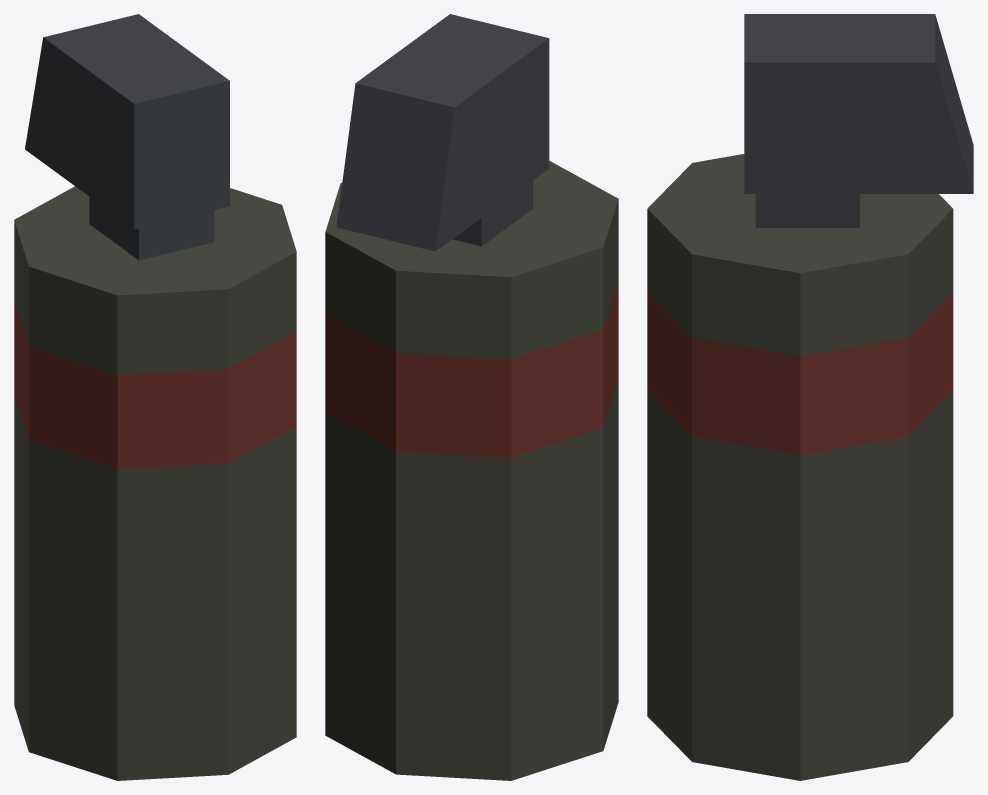
File: SM_Wep_Grenade_Smoke_01.fbx
The picture shows the model from 3 angles, left to right: view 1: azimuth 30°, elevation 25°; view 2: azimuth 150°, elevation 25°; view 3: azimuth 270°, elevation 25°; orthographic projection. The views are drawn at different scales.
Visible parts, largest first — view 1: SM_Wep_Grenade_Smoke_01; view 2: SM_Wep_Grenade_Smoke_01; view 3: SM_Wep_Grenade_Smoke_01.
Part boxes in pixels (x1,y1,x2,y2): SM_Wep_Grenade_Smoke_01: (14,14,296,780); SM_Wep_Grenade_Smoke_01: (325,14,618,780); SM_Wep_Grenade_Smoke_01: (647,14,973,780).
Bounding box in the file's own units: 6.47 × 15.82 × 6.9.
